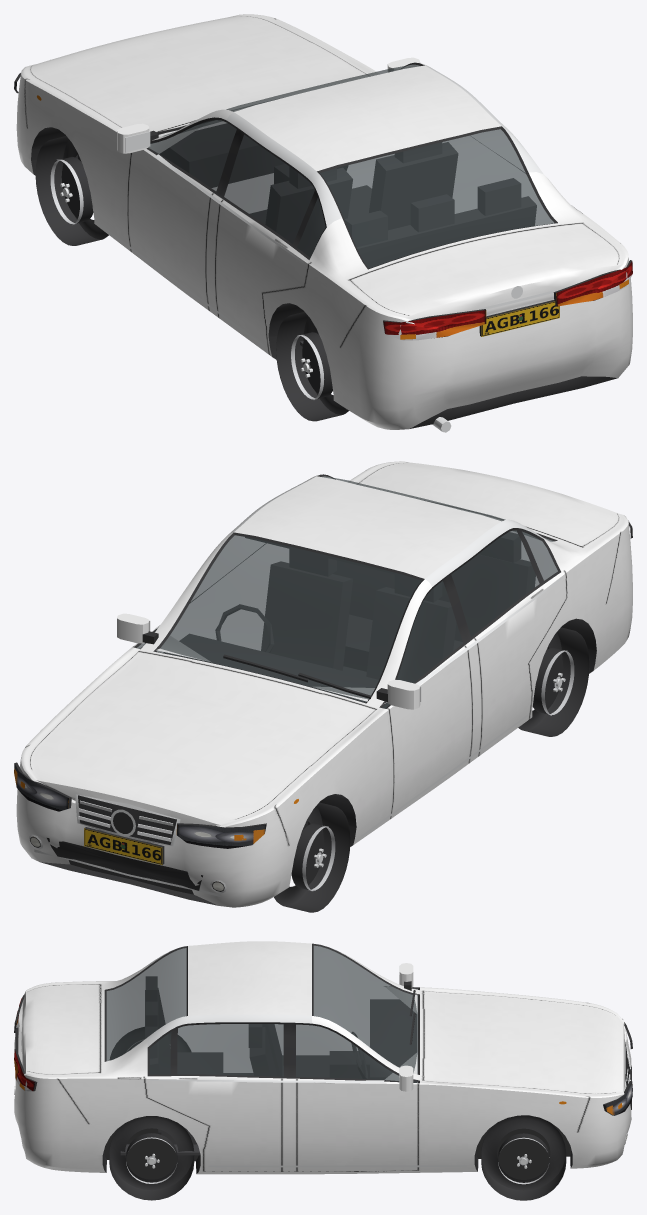
File: sedan_mercedes.glb
The picture shows the model from 3 angles, top to bottom: view 1: azimuth 30°, elevation 25°; view 2: azimuth 150°, elevation 25°; view 3: azimuth 270°, elevation 25°; orthographic projection. The views are drawn at different scales.
Parts seen in each view (by area): view 1: body, wheel_fl_mesh, wheel_rl_mesh; view 2: body, wheel_fl_mesh, wheel_rl_mesh; view 3: body, wheel_fr_mesh, wheel_rr_mesh, wheel_rl_mesh.
Boxes of the visible parts, left/top/right/bottom form: body: left=14, top=14, right=632, bottom=432; wheel_fl_mesh: left=35, top=136, right=108, bottom=245; wheel_rl_mesh: left=276, top=312, right=348, bottom=421; body: left=14, top=461, right=632, bottom=907; wheel_fl_mesh: left=274, top=802, right=350, bottom=912; wheel_rl_mesh: left=518, top=627, right=589, bottom=736; body: left=14, top=941, right=632, bottom=1174; wheel_fr_mesh: left=481, top=1115, right=566, bottom=1200; wheel_rr_mesh: left=109, top=1116, right=194, bottom=1200; wheel_rl_mesh: left=110, top=1027, right=191, bottom=1060.
Size of the model in its own units: 2 by 1.45 by 4.59.
Materials: 11 (5 with a texture image).
